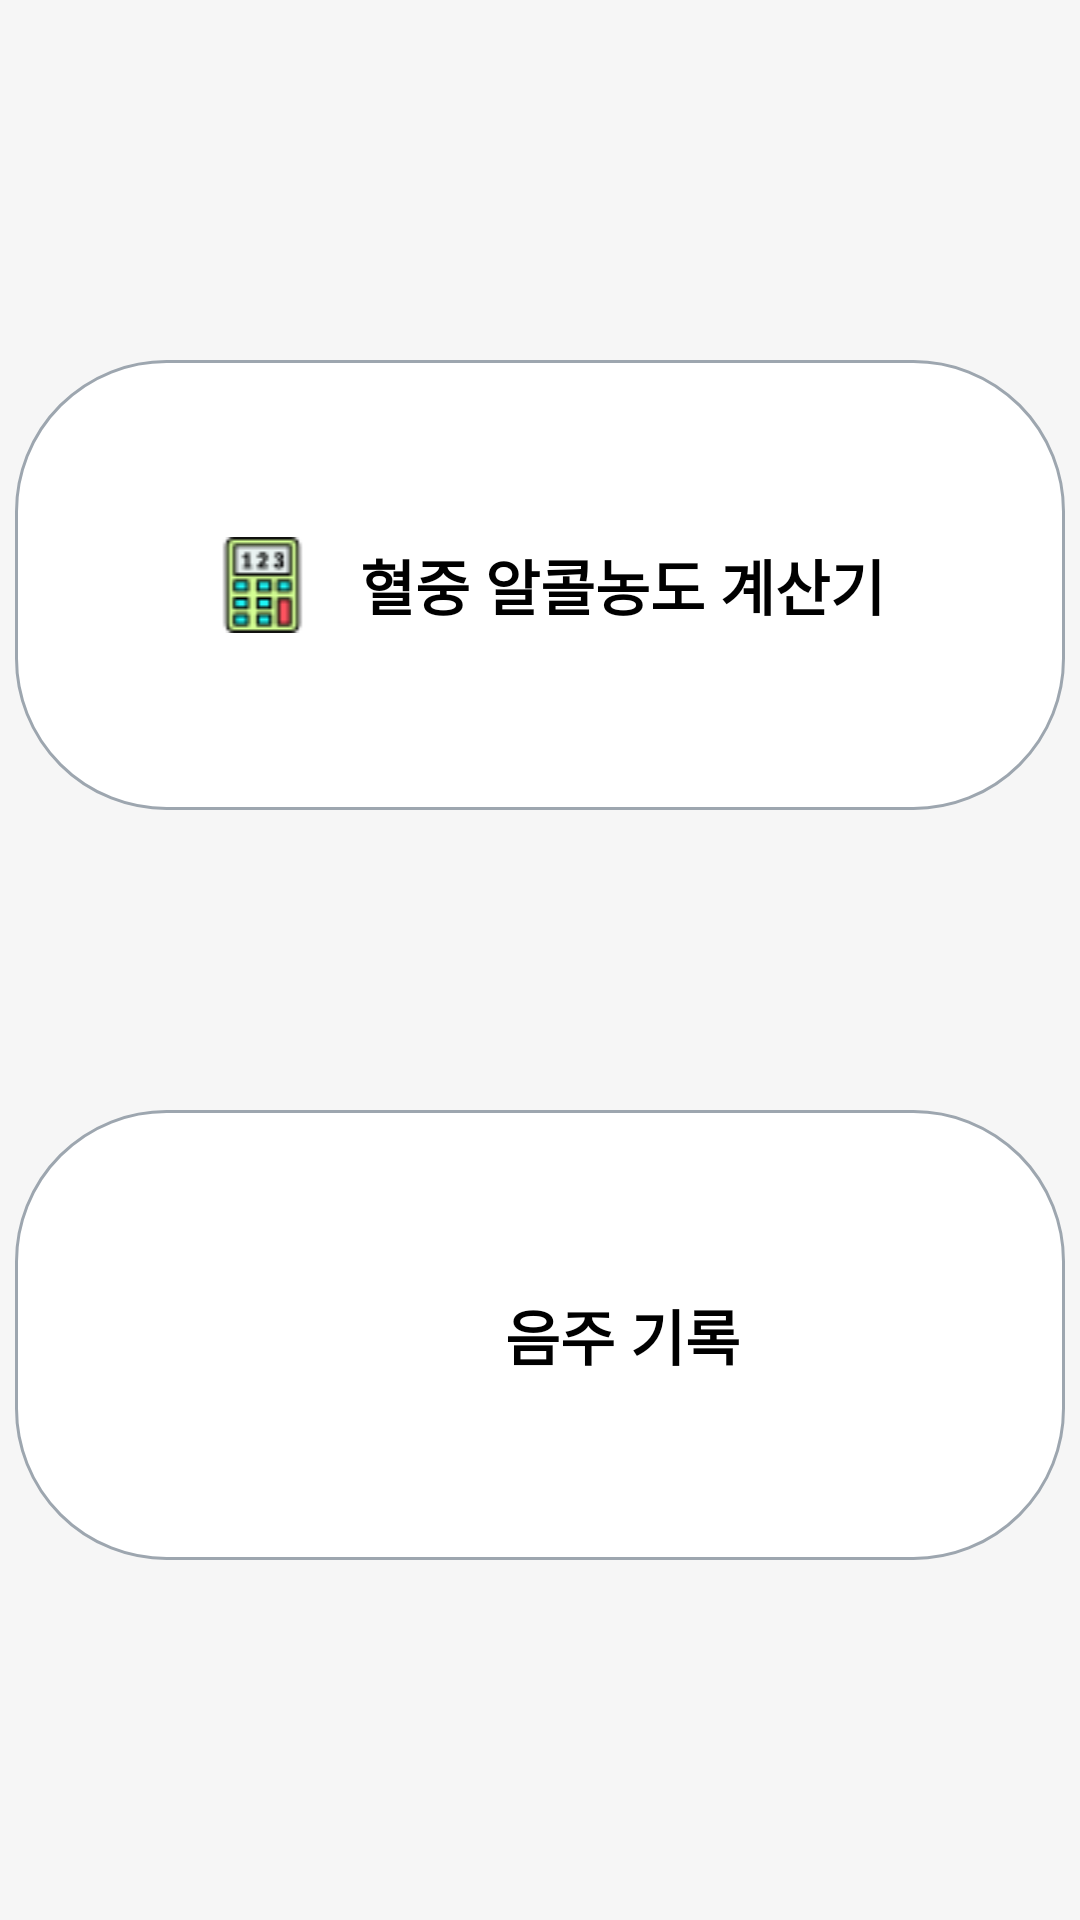

Icons on this 1080 × 1920 Android screen, each with its box as box(x1, y1, x2, y2):
cal: box(223, 537, 302, 633)
